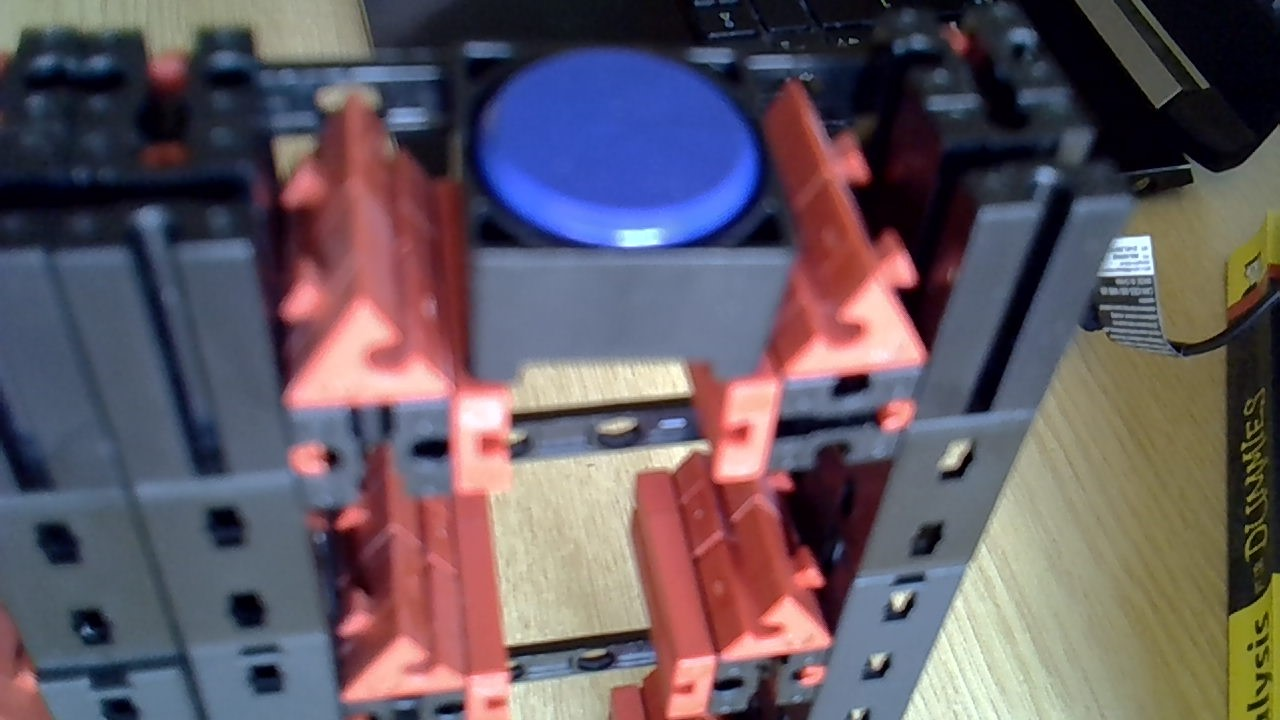Behaelter: (450, 52, 793, 389)
WerkStueck: (469, 44, 766, 250)
